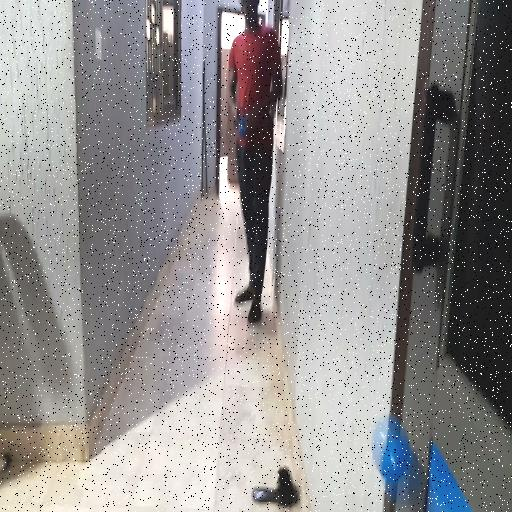plastic-ball: (367, 416, 419, 497)
